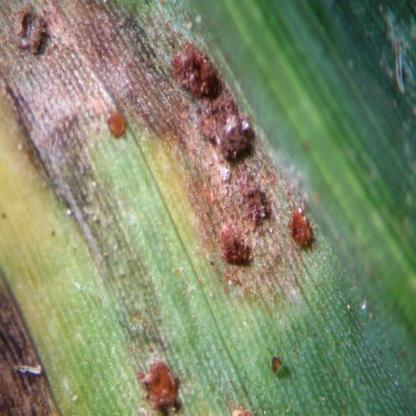Corn rust leaf: (40, 0, 400, 416)
